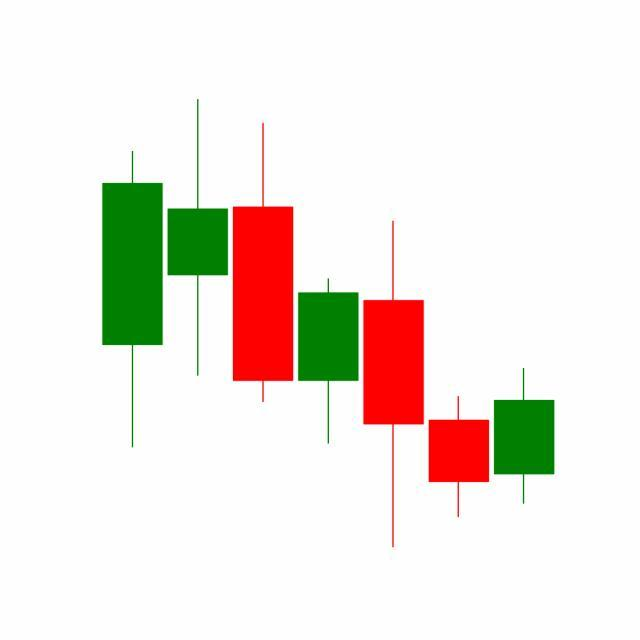Hikkake Pattern: (229, 119, 555, 549)
